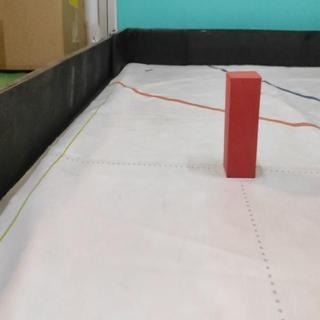redbox: (223, 70, 261, 177)
